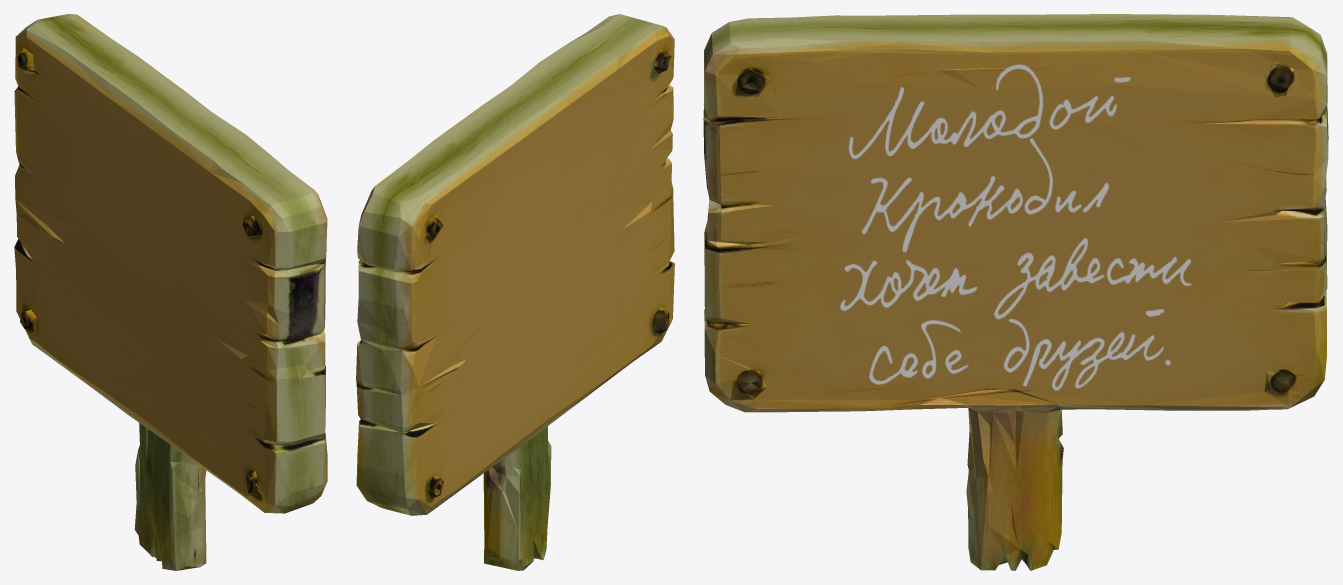
The model's file is sign.glb.
3 renders of one model, left to right at view 1: azimuth 30°, elevation 25°; view 2: azimuth 150°, elevation 25°; view 3: azimuth 270°, elevation 25°, orthographic. The views are drawn at different scales.
Parts seen in each view (by area): view 1: tripo_node_7ef4f562-66ce-4672-a37f-251f2038b1e7; view 2: tripo_node_7ef4f562-66ce-4672-a37f-251f2038b1e7; view 3: tripo_node_7ef4f562-66ce-4672-a37f-251f2038b1e7, Plane.
Boxes of the visible parts, x1,y1,x2,y2 form: tripo_node_7ef4f562-66ce-4672-a37f-251f2038b1e7: [14, 14, 327, 570]; tripo_node_7ef4f562-66ce-4672-a37f-251f2038b1e7: [356, 14, 674, 570]; tripo_node_7ef4f562-66ce-4672-a37f-251f2038b1e7: [703, 14, 1328, 570]; Plane: [840, 64, 1191, 390].
Bounding box in the file's own units: 0.1571 × 0.9391 × 0.9991.
2 materials, 2 textured.
